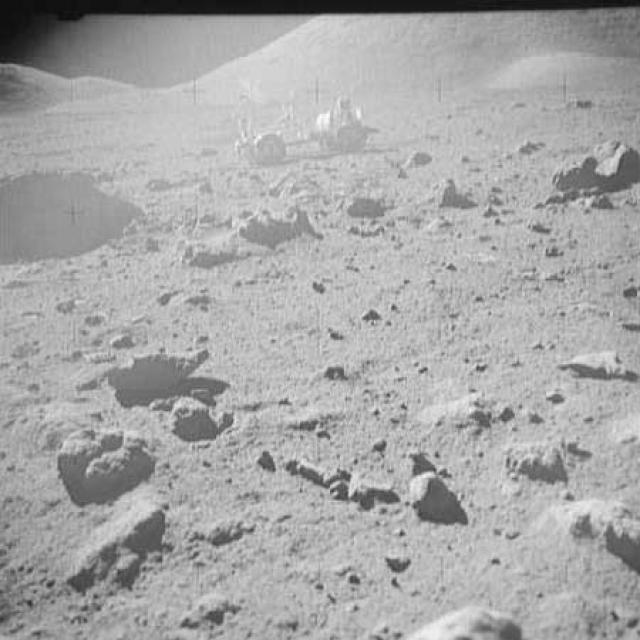artifact: (214, 67, 374, 165)
rock: (505, 502, 638, 639), (57, 494, 169, 587), (0, 163, 104, 247), (55, 418, 152, 490), (550, 129, 636, 198), (364, 598, 512, 638), (107, 345, 211, 392), (494, 437, 566, 483), (163, 393, 221, 450), (554, 346, 632, 386), (230, 210, 310, 243), (176, 234, 235, 270), (337, 186, 388, 221), (401, 475, 446, 513), (428, 173, 460, 204), (405, 147, 433, 169)
